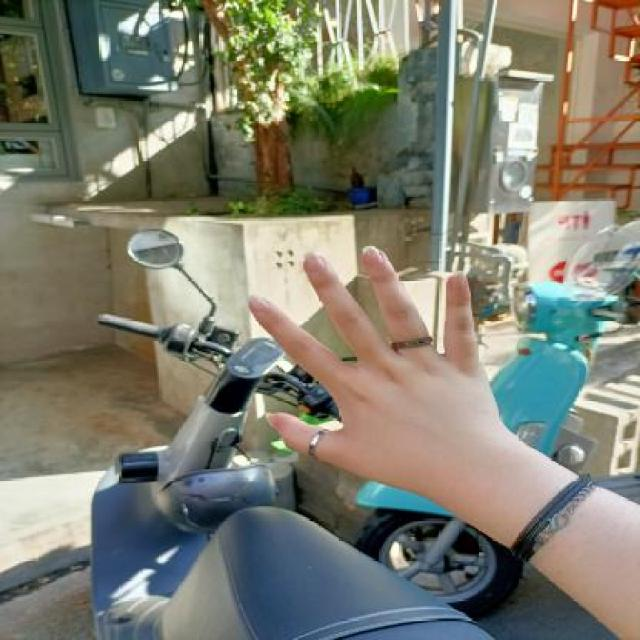no_glove: (228, 243, 526, 515)
